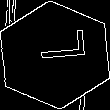L_W: (26, 37, 84, 73)
